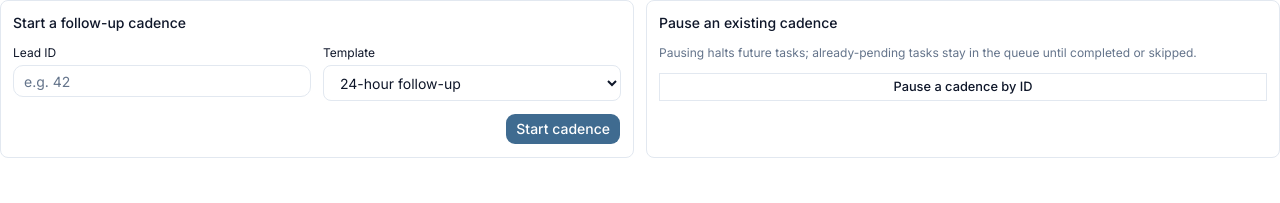
Test: CreateCadenceForm › surfaces a 409 conflict when the lead already has that cadence
In the number field with test id "create-cadence-lead-id": (162, 81) [13, 65, 311, 97], type "42"
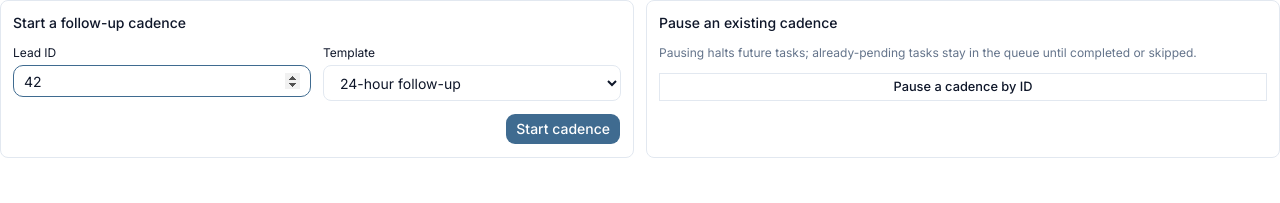
Click the button with test id "create-cadence-submit": (563, 129) [505, 113, 621, 145]
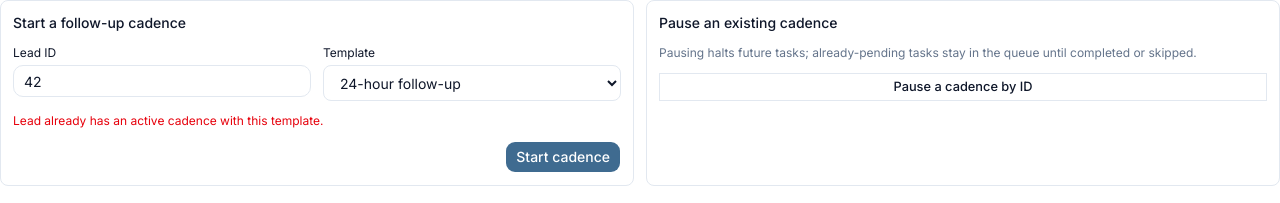
Result: the text with test id "create-cadence-error" shows "already has an active cadence" at [13, 113, 324, 128]
